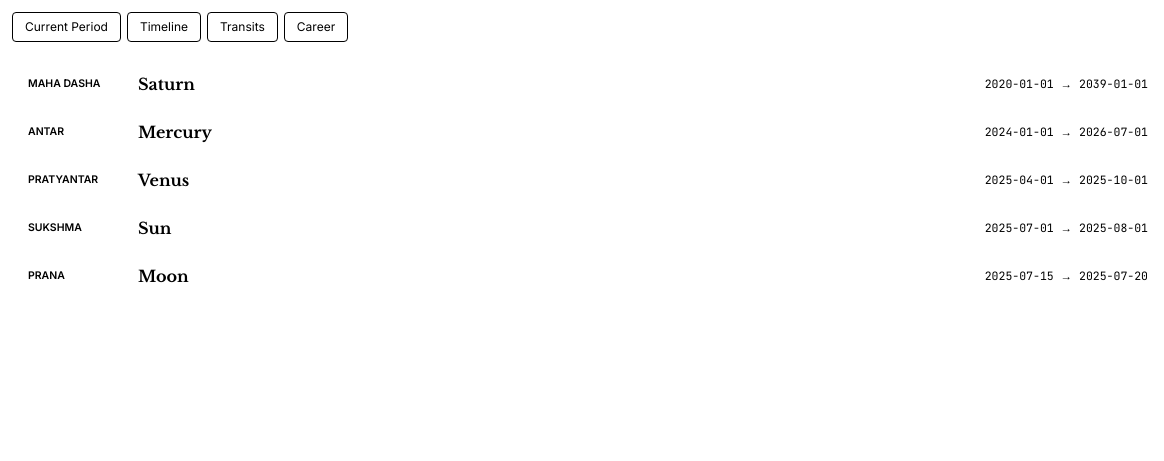
Test: TimeTab › shows career theme badge after clicking Career tab
Click the tab "Career" at (316, 27), box [284,12,348,42]
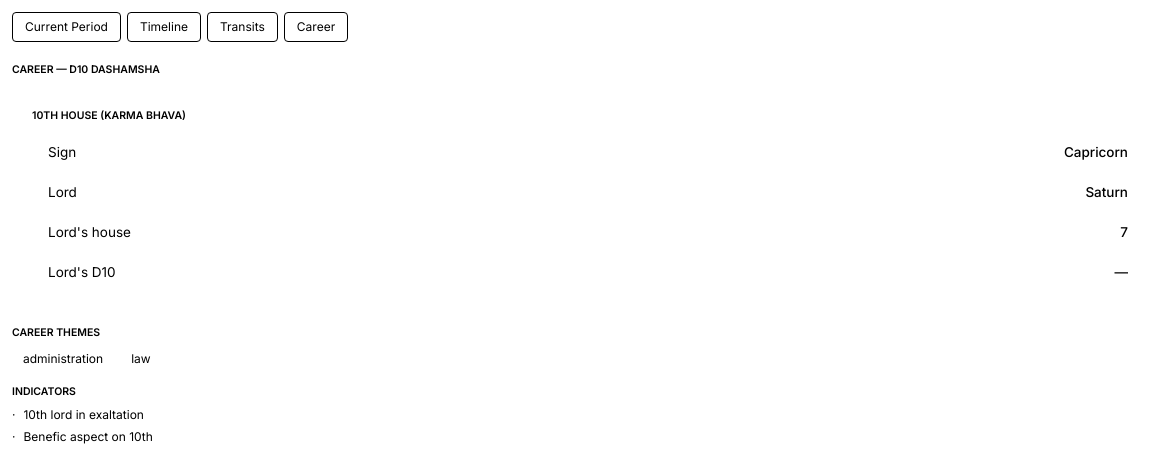
Result: the text "administration" is shown at [23,351,103,366]
